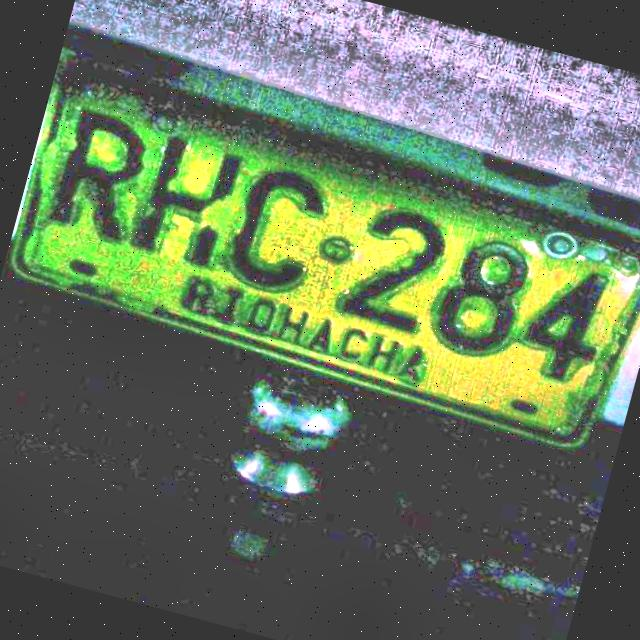plate: (17, 59, 640, 447)
